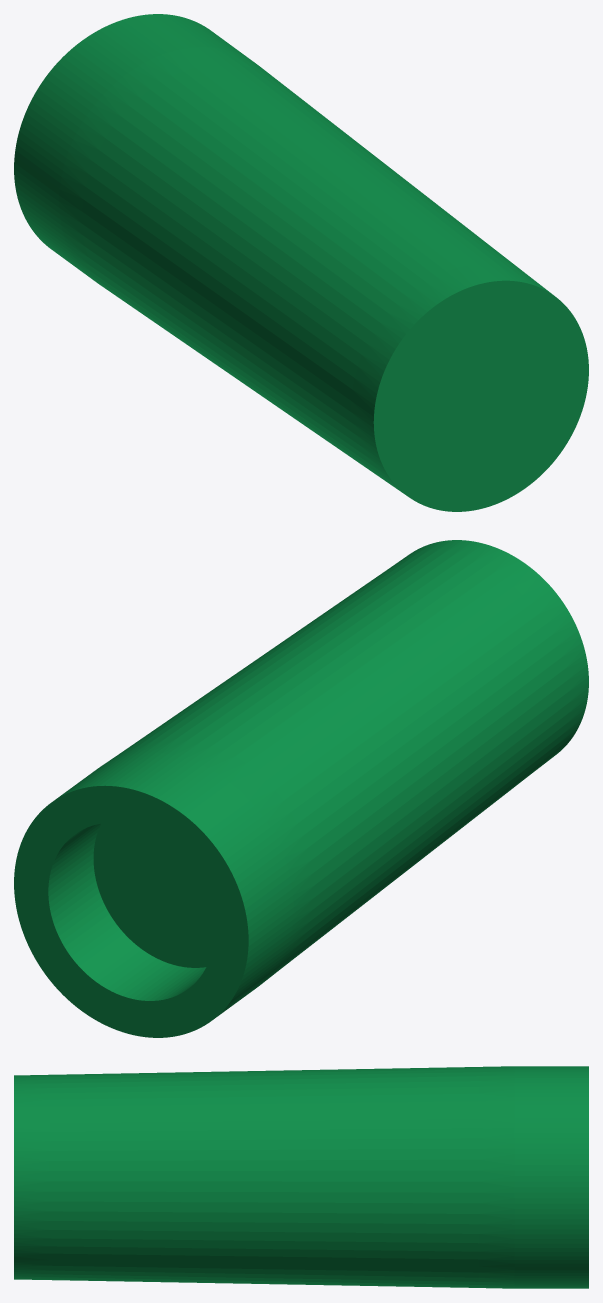
The picture shows the model from 3 angles, top to bottom: view 1: azimuth 30°, elevation 25°; view 2: azimuth 150°, elevation 25°; view 3: azimuth 270°, elevation 25°; orthographic projection. The views are drawn at different scales.
Visible parts, largest first — view 1: node; view 2: node; view 3: node.
Boxes of the visible parts, box(x1,y1,x2,y2) form: node: box(14, 14, 588, 511); node: box(14, 540, 588, 1037); node: box(14, 1066, 588, 1288).
Bounding box in the file's own units: 0.0444 × 0.0444 × 0.1148.
